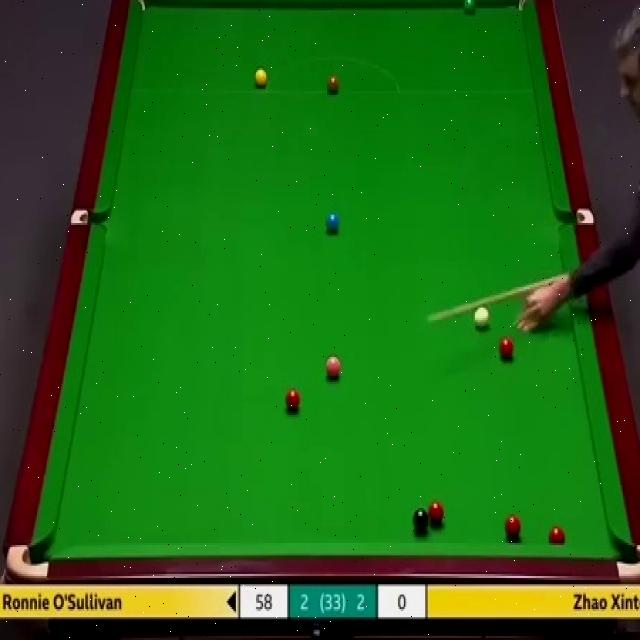black-ball: (413, 509, 429, 532)
blue-ball: (326, 213, 341, 235)
brown-ball: (327, 72, 339, 93)
green-ball: (462, 0, 473, 12)
pink-ball: (327, 356, 340, 380)
red-ball: (427, 501, 445, 529), (504, 512, 522, 539), (285, 389, 301, 415), (498, 337, 514, 362), (549, 527, 566, 544)
white-ball: (472, 305, 489, 330)
yellow-ball: (254, 70, 266, 88)
